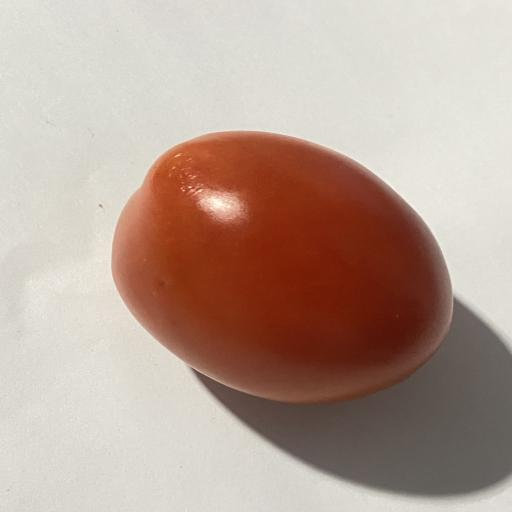ripe: (112, 131, 452, 403)
